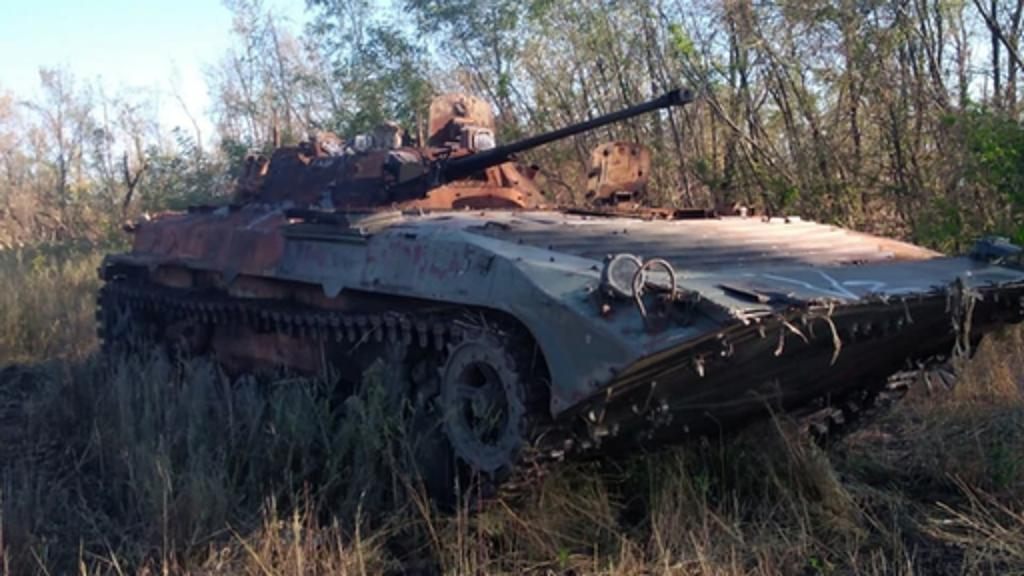APC-IFV: (98, 86, 1022, 486)
